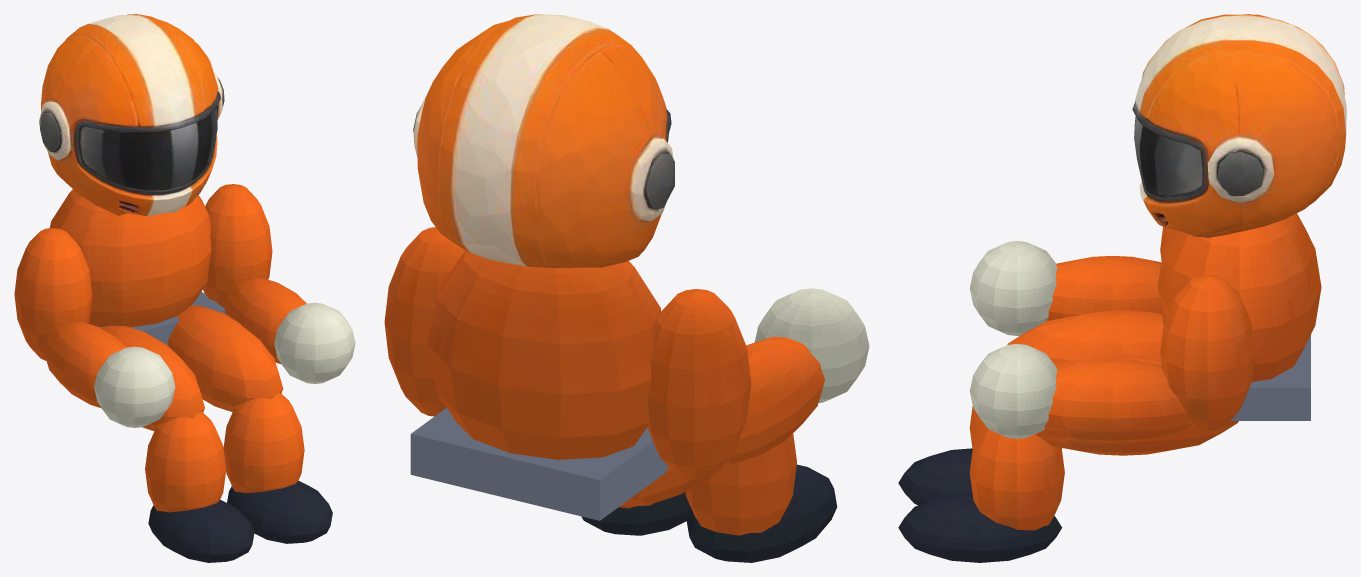
Rendered from rookie.glb.
3 renders of one model, left to right at view 1: azimuth 30°, elevation 25°; view 2: azimuth 150°, elevation 25°; view 3: azimuth 270°, elevation 25°, orthographic. The views are drawn at different scales.
Parts seen in each view (by area): view 1: Helmet, Torso, RightThigh, LeftUpperArm, LeftShin, RightShin, RightUpperArm, LeftGlove, RightGlove, LeftBoot, RightBoot, LeftForearm (+3 smaller); view 2: Helmet, Torso, LeftUpperArm, Belt, RightUpperArm, LeftForearm, LeftShin, LeftGlove, LeftBoot, RightBoot, LeftThigh; view 3: Helmet, Torso, RightUpperArm, RightForearm, RightShin, RightBoot, RightGlove, LeftGlove, LeftForearm, LeftThigh, Belt, RightThigh (+1 smaller).
Boxes of the visible parts, <box> form: Helmet: <box>39,14,224,216</box>; Torso: <box>50,189,211,327</box>; RightThigh: <box>167,305,283,411</box>; LeftUpperArm: <box>14,228,92,360</box>; LeftShin: <box>145,412,226,512</box>; RightShin: <box>223,392,304,493</box>; RightUpperArm: <box>203,184,272,307</box>; LeftGlove: <box>94,346,175,427</box>; RightGlove: <box>274,302,355,383</box>; LeftBoot: <box>148,499,254,562</box>; RightBoot: <box>227,480,332,543</box>; LeftForearm: <box>43,321,126,407</box>; Helmet: <box>413,14,674,267</box>; Torso: <box>427,250,661,459</box>; LeftUpperArm: <box>647,289,751,479</box>; Belt: <box>410,407,667,520</box>; RightUpperArm: <box>384,227,465,416</box>; LeftForearm: <box>724,336,824,464</box>; LeftShin: <box>685,433,796,535</box>; LeftGlove: <box>754,288,869,402</box>; LeftBoot: <box>686,464,837,562</box>; RightBoot: <box>581,492,690,535</box>; LeftThigh: <box>621,464,724,505</box>; Helmet: <box>1132,14,1346,237</box>; Torso: <box>1157,213,1321,381</box>; RightUpperArm: <box>1160,275,1255,430</box>; RightForearm: <box>1044,358,1192,443</box>; RightShin: <box>969,423,1064,530</box>; RightBoot: <box>898,493,1061,562</box>; RightGlove: <box>969,343,1057,438</box>; LeftGlove: <box>969,241,1057,335</box>; LeftForearm: <box>1046,256,1161,321</box>; LeftThigh: <box>1007,310,1163,364</box>; Belt: <box>1230,335,1310,420</box>; RightThigh: <box>1035,355,1238,455</box>.
Size of the model in its own units: 0.64 by 1.06 by 0.8476.
15 materials, 14 textured.
